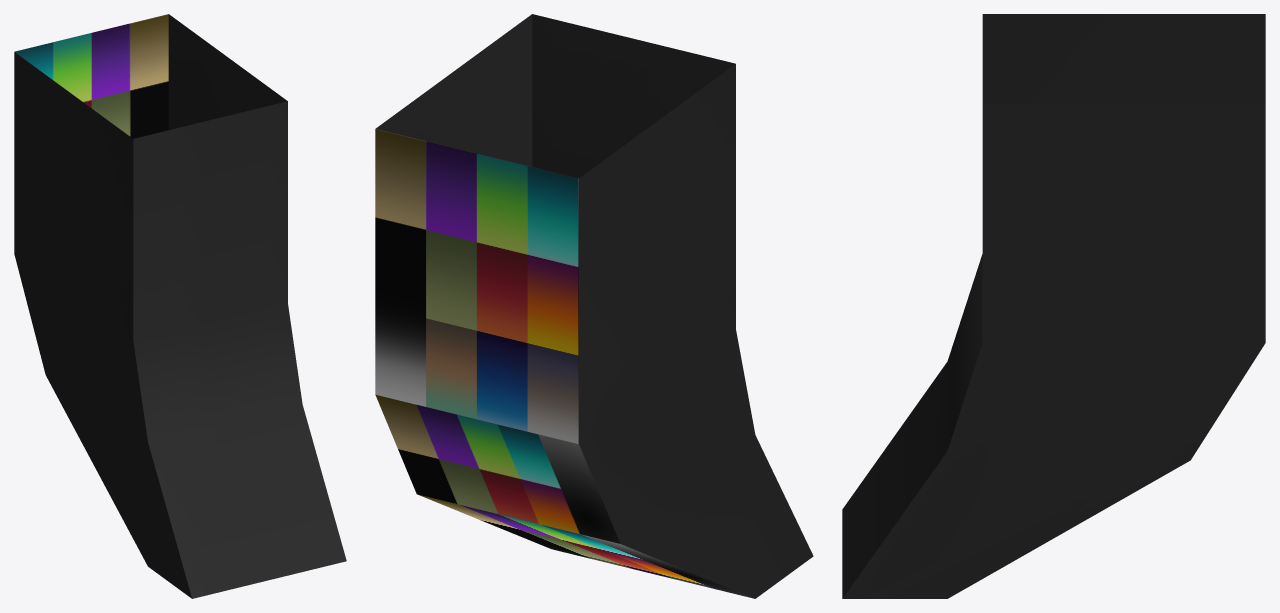
The model's file is TriggerB_mesh.fbx.
The picture shows the model from 3 angles, left to right: view 1: azimuth 30°, elevation 25°; view 2: azimuth 150°, elevation 25°; view 3: azimuth 270°, elevation 25°; orthographic projection. The views are drawn at different scales.
Visible parts, largest first — view 1: TriggerB_mesh; view 2: TriggerB_mesh; view 3: TriggerB_mesh.
Boxes of the visible parts, <box> form: TriggerB_mesh: <box>14,14,346,598</box>; TriggerB_mesh: <box>375,14,813,598</box>; TriggerB_mesh: <box>842,14,1265,598</box>.
Size of the model in its own units: 1.13 by 2.92 by 2.26.
